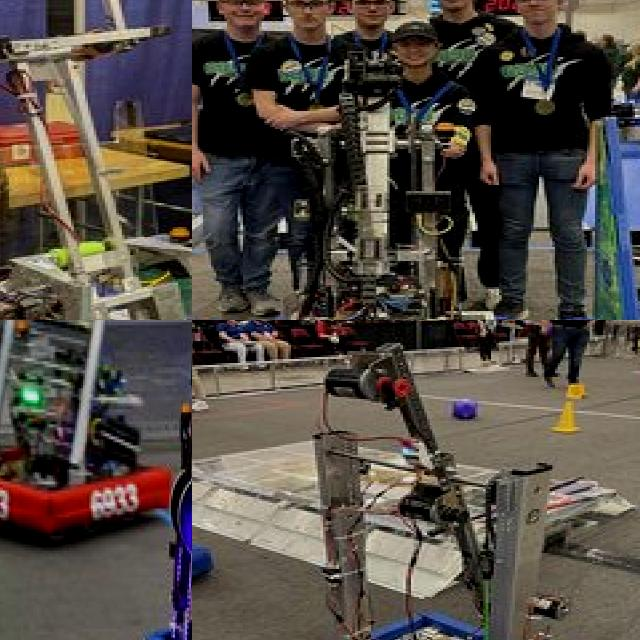FRC-Robots: (207, 333, 640, 640), (247, 84, 559, 320), (0, 0, 192, 320), (0, 320, 171, 560), (555, 49, 640, 320), (138, 320, 192, 640)
